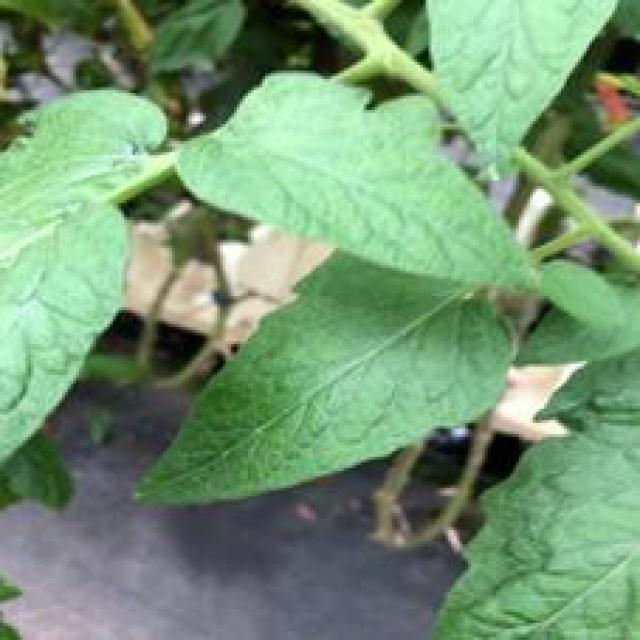Tomato healthy leaf: (135, 254, 550, 510), (175, 70, 539, 293), (0, 90, 166, 465), (431, 349, 640, 640), (426, 0, 620, 180)
